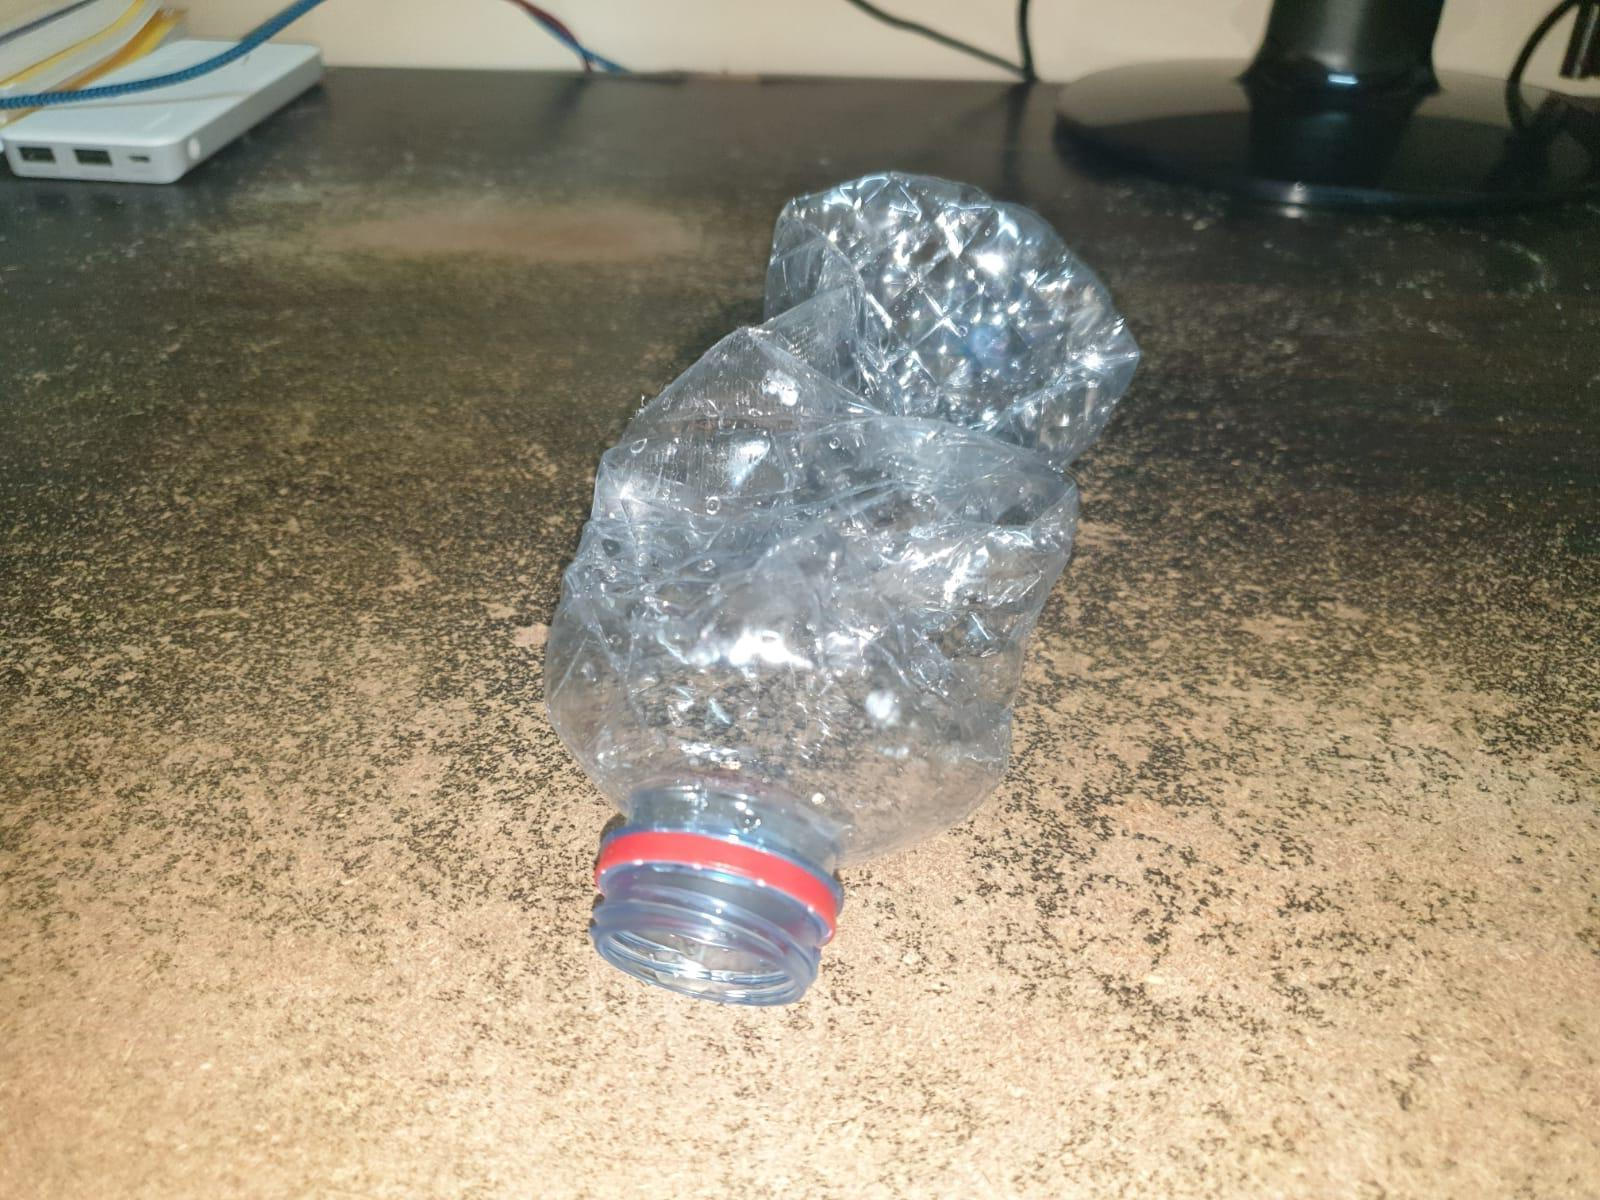bottle: (532, 176, 1136, 1018)
